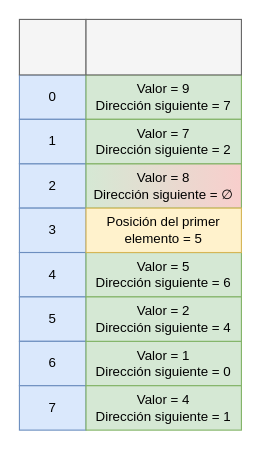
Some shapes in this 261 by 450 pixel diagram are drawn without their labels. Here are the shapes that lost their labels. From the top down, the centre of each, then its label:
At (52,46): "Posición de memoria".
At (163,46): "Elemento".
